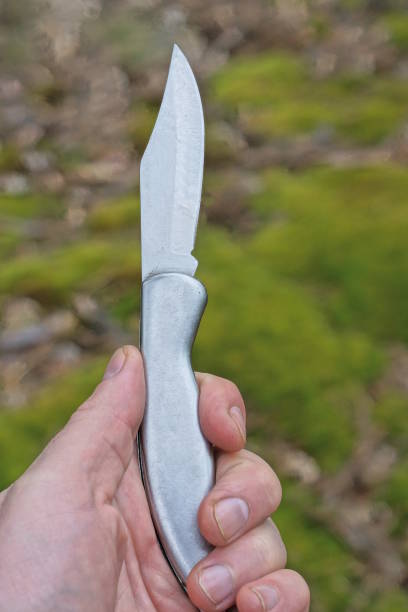knife: (136, 42, 220, 591)
